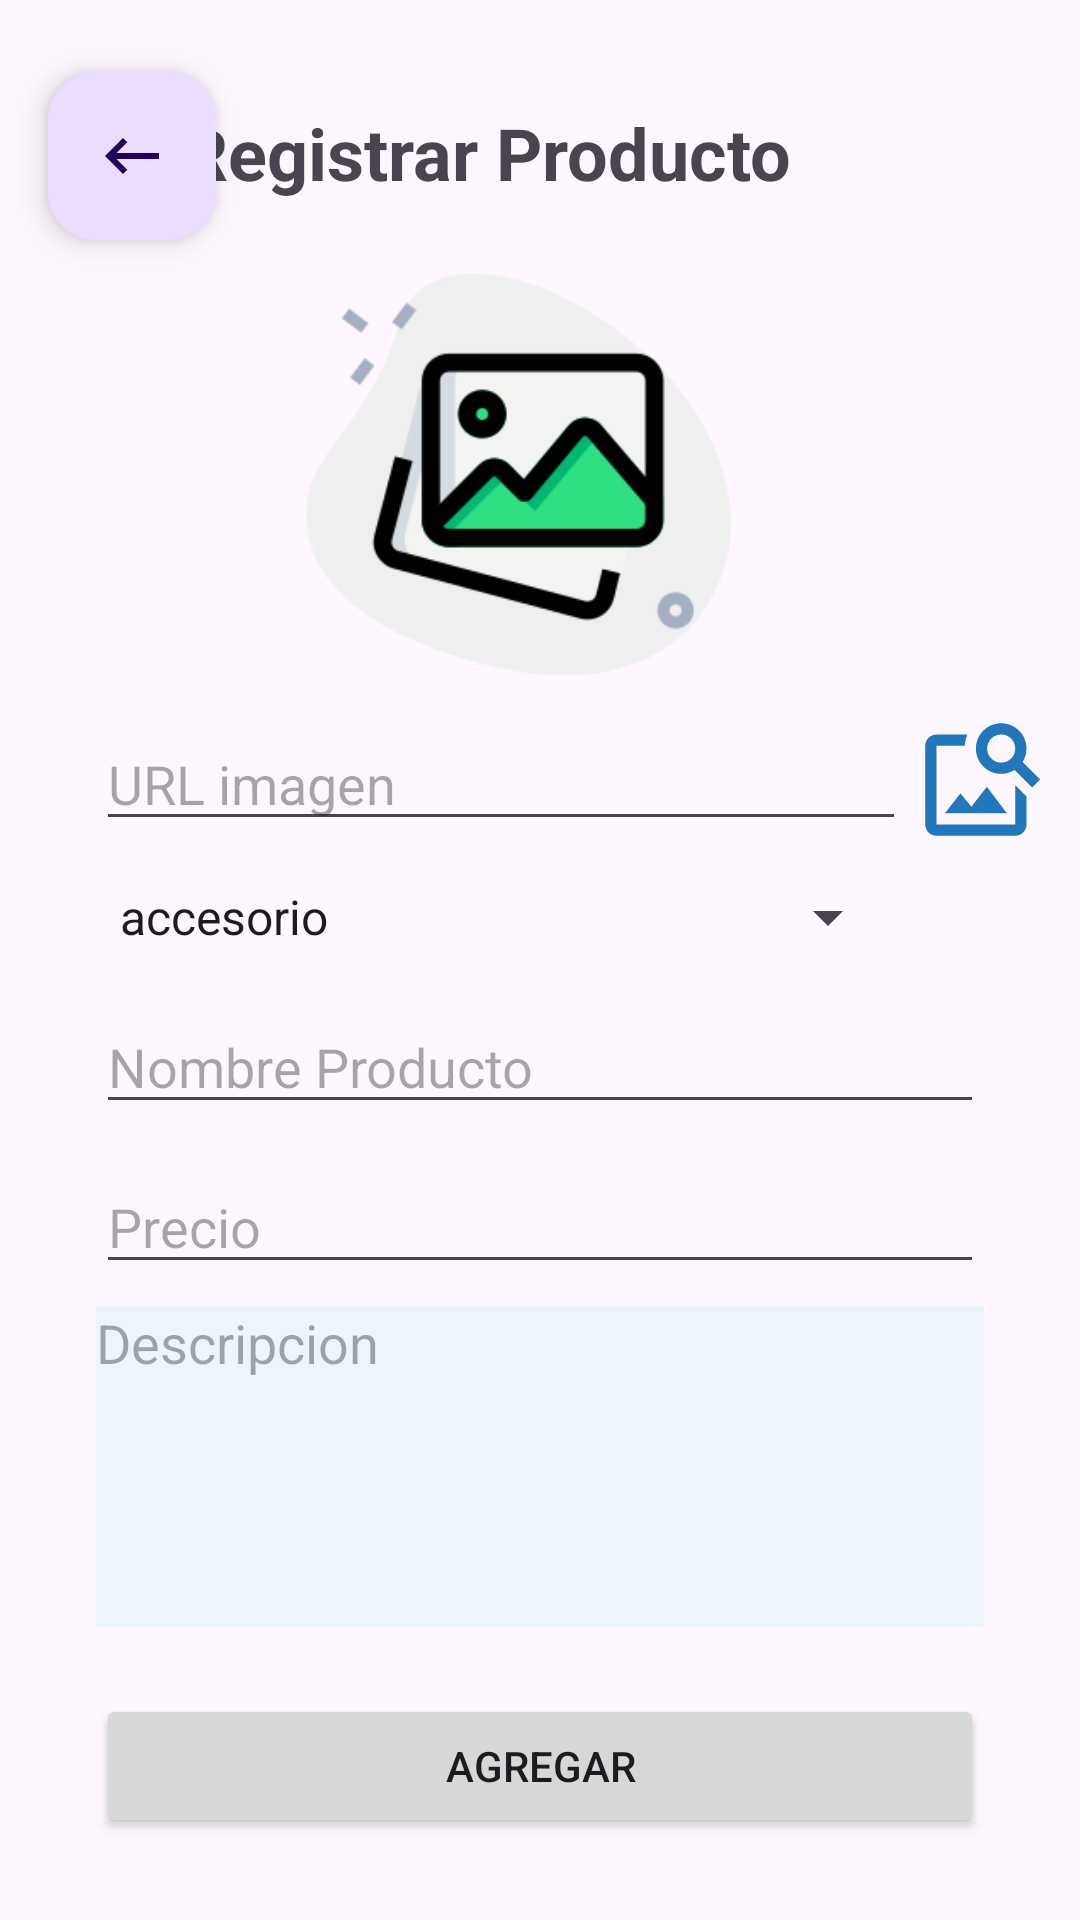

Icon click points for this 1080 × 1920 phone screenshot, format [x,y]:
regresar: [132,156]
search: [982,779]
